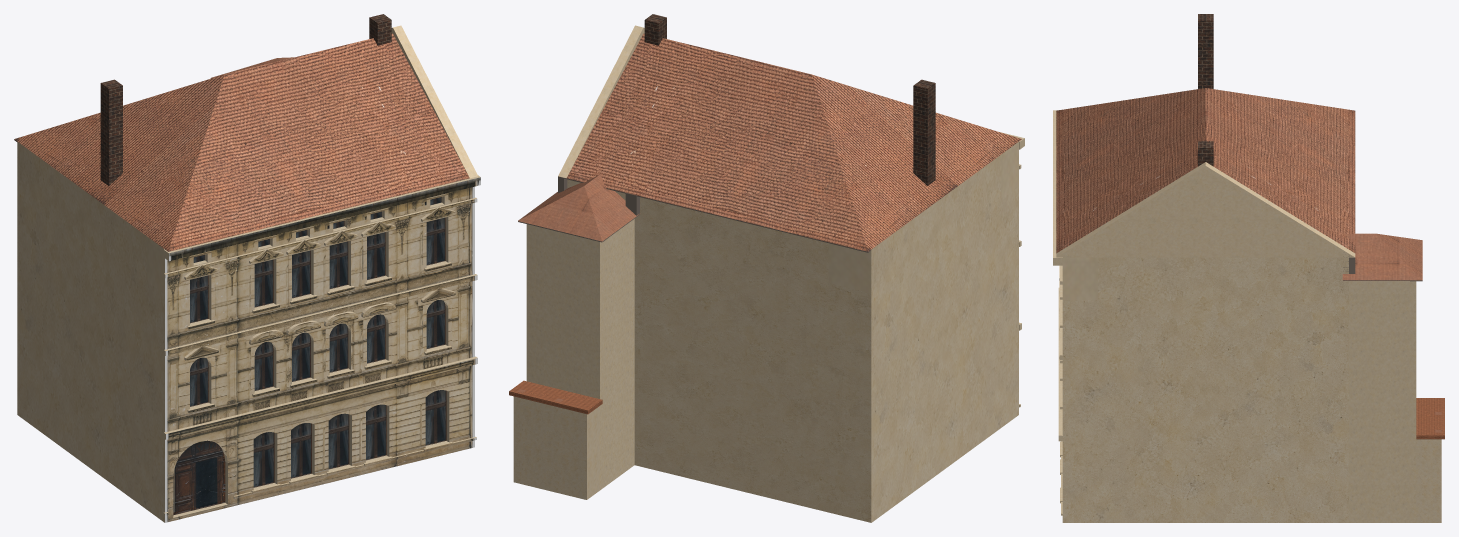
Rendered from cp262_study.glb.
3 renders of one model, left to right at view 1: azimuth 30°, elevation 25°; view 2: azimuth 150°, elevation 25°; view 3: azimuth 270°, elevation 25°, orthographic. The views are drawn at different scales.
Visible parts, largest first — view 1: CP_262_Masonry, CP_262_Roof, CP_262_Cornice_main_cornice_0, CP_262_Cornice_ground_string_0, CP_262_Chimney_0, CP_262_Cornice_first_string_0, CP_262_Gable_R_firewall, CP_262_Cornice_second_string_0, CP_262_Chimney_1, CP_262_Cornice_plinth_top_1; view 2: CP_262_Masonry, CP_262_Roof, CP_262_Right_Strip, CP_262_Annex_Kassa, CP_262_WingRoof_Right_Strip, CP_262_Chimney_0, CP_262_Gable_R_firewall, CP_262_Annex_Roof, CP_262_Chimney_1; view 3: CP_262_Masonry, CP_262_Roof, CP_262_Right_Strip, CP_262_Gable_R_firewall, CP_262_WingRoof_Right_Strip, CP_262_Annex_Kassa, CP_262_Annex_Roof, CP_262_Chimney_0, CP_262_Cornice_main_cornice_0, CP_262_Cornice_ground_string_0.
Part boxes in pixels (x1,y1,x2,y2): CP_262_Masonry: [17, 142, 474, 522]; CP_262_Roof: [14, 33, 469, 251]; CP_262_Cornice_main_cornice_0: [163, 175, 480, 260]; CP_262_Cornice_ground_string_0: [163, 356, 477, 439]; CP_262_Chimney_0: [100, 79, 122, 185]; CP_262_Cornice_first_string_0: [163, 274, 477, 355]; CP_262_Gable_R_firewall: [391, 25, 477, 178]; CP_262_Cornice_second_string_0: [163, 197, 477, 278]; CP_262_Chimney_1: [369, 14, 391, 45]; CP_262_Cornice_plinth_top_1: [233, 436, 476, 498]; CP_262_Masonry: [567, 142, 1018, 522]; CP_262_Roof: [567, 33, 1021, 251]; CP_262_Right_Strip: [526, 219, 634, 490]; CP_262_Annex_Kassa: [513, 396, 599, 499]; CP_262_WingRoof_Right_Strip: [518, 174, 639, 241]; CP_262_Chimney_0: [913, 79, 935, 185]; CP_262_Gable_R_firewall: [558, 25, 644, 178]; CP_262_Annex_Roof: [509, 380, 602, 414]; CP_262_Chimney_1: [644, 14, 666, 45]; CP_262_Masonry: [1062, 257, 1348, 522]; CP_262_Roof: [1056, 88, 1355, 253]; CP_262_Right_Strip: [1348, 281, 1416, 522]; CP_262_Gable_R_firewall: [1056, 162, 1355, 257]; CP_262_WingRoof_Right_Strip: [1342, 233, 1422, 280]; CP_262_Annex_Kassa: [1416, 437, 1441, 522]; CP_262_Annex_Roof: [1416, 398, 1444, 439]; CP_262_Chimney_0: [1198, 14, 1213, 88]; CP_262_Cornice_main_cornice_0: [1053, 110, 1062, 265]; CP_262_Cornice_ground_string_0: [1058, 288, 1062, 441].
Size of the model in its own units: 16.85 by 19.3 by 18.6.
Materials: 51 (50 with a texture image).
